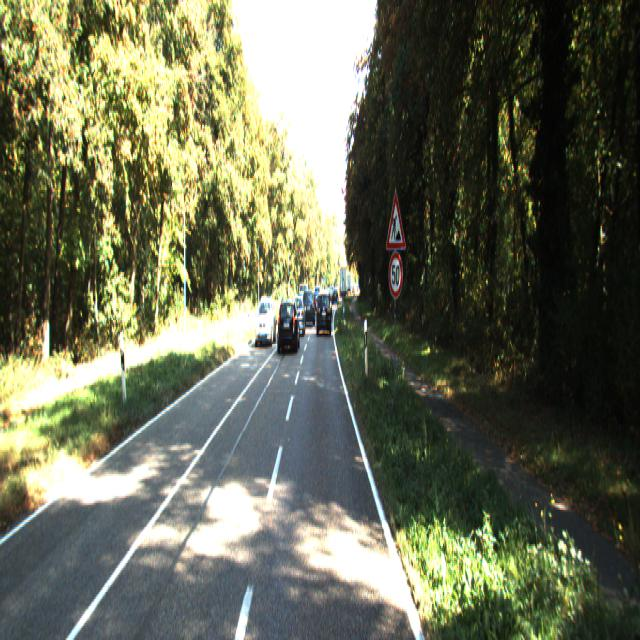Car: (277, 294, 299, 352), (254, 294, 276, 344), (316, 287, 332, 332), (303, 286, 314, 322)
